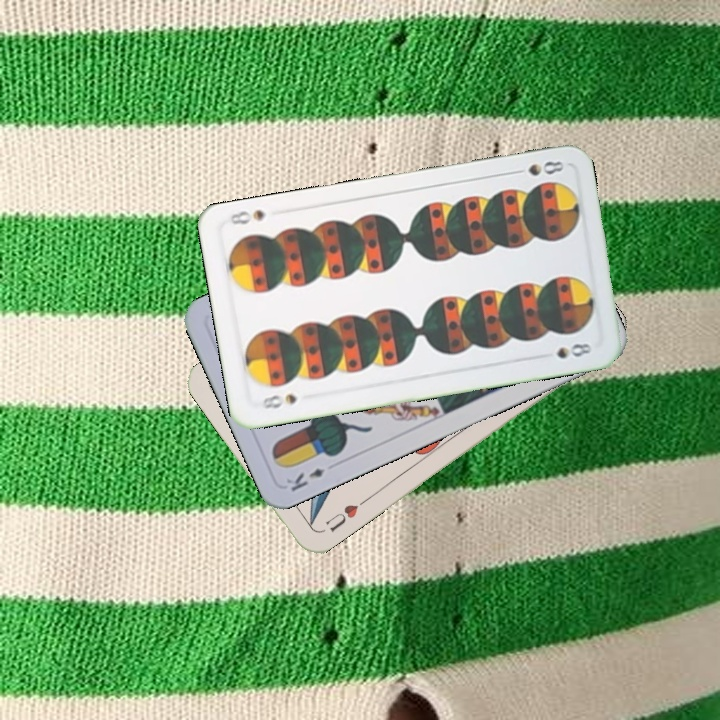EK: (282, 464, 327, 495)
HU: (321, 496, 368, 535)
S8: (508, 157, 567, 179), (256, 390, 300, 411)
